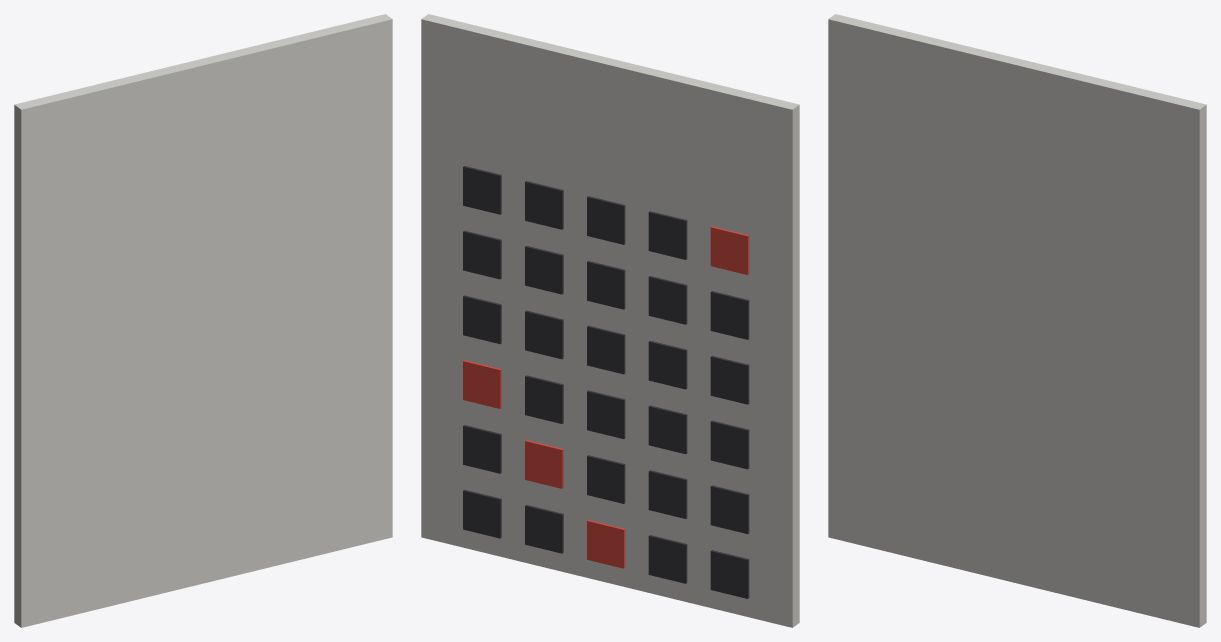
File: wall_calendar.glb
3 views of the same model, side by side, from view 1: azimuth 30°, elevation 25°; view 2: azimuth 150°, elevation 25°; view 3: azimuth 330°, elevation 25° (orthographic).
Parts seen in each view (by area): view 1: wall_calendar; view 2: wall_calendar; view 3: wall_calendar.
Boxes of the visible parts, bbox=[...] form: wall_calendar: bbox=[14, 14, 392, 627]; wall_calendar: bbox=[421, 14, 799, 627]; wall_calendar: bbox=[828, 14, 1206, 627].
Bounding box in the file's own units: 0.3 × 0.4 × 0.012.
